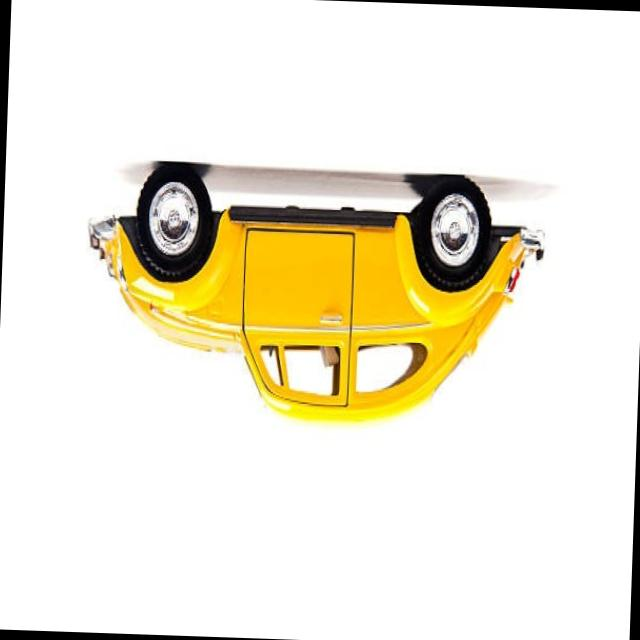car: (72, 156, 554, 426)
